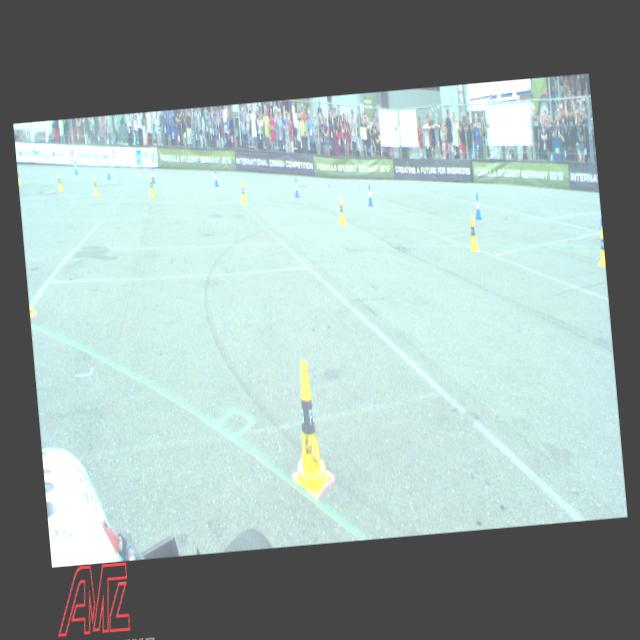blue_cone: (473, 192, 481, 220), (366, 183, 373, 206), (293, 177, 299, 197), (212, 168, 218, 186), (150, 166, 156, 182), (598, 208, 602, 230), (106, 163, 110, 179), (74, 160, 78, 174)
yellow_cone: (284, 358, 332, 496), (466, 215, 478, 251), (596, 226, 606, 268), (336, 196, 346, 224), (238, 180, 246, 203), (92, 174, 98, 196), (148, 174, 154, 196), (56, 172, 62, 190), (16, 166, 20, 184)
